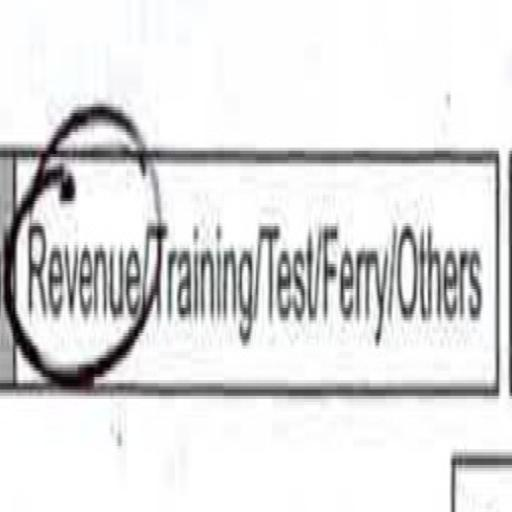check: (20, 112, 142, 448)
